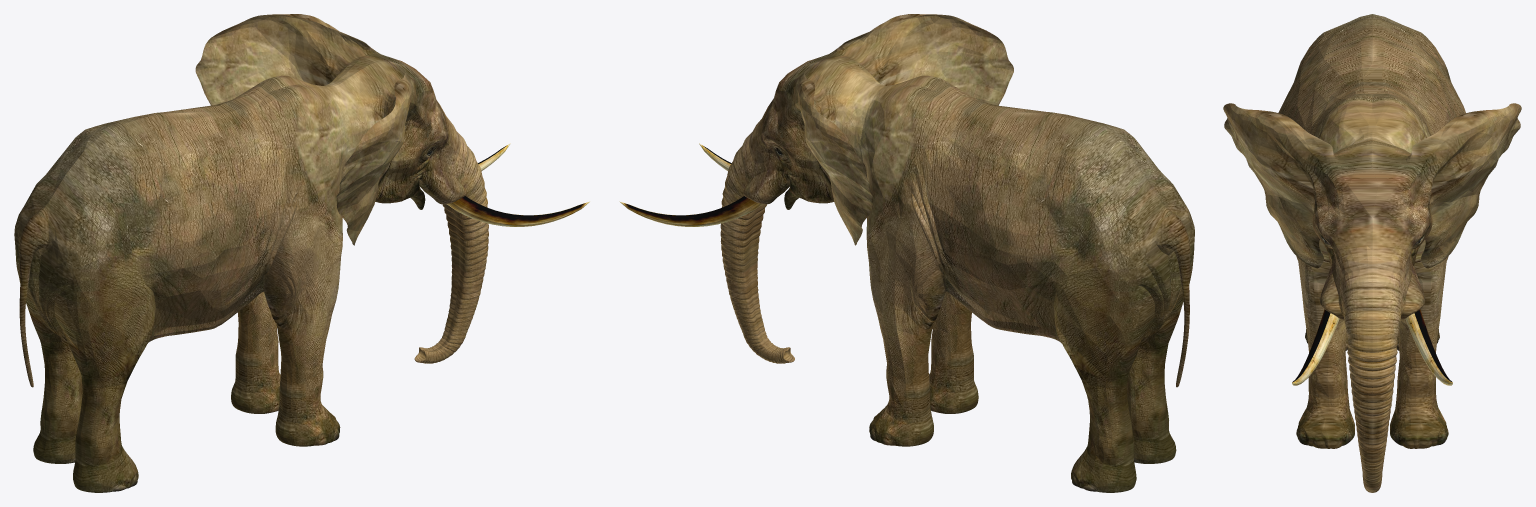
The model's file is elephant.glb.
3 renders of one model, left to right at view 1: azimuth 30°, elevation 25°; view 2: azimuth 150°, elevation 25°; view 3: azimuth 270°, elevation 25°, orthographic.
Visible parts, largest first — view 1: 79059; view 2: 79059; view 3: 79059.
Part boxes in pixels (<box>): 79059: <box>14,14,589,492</box>; 79059: <box>619,14,1194,492</box>; 79059: <box>1223,14,1521,492</box>.
Bounding box in the file's own units: 1132 × 717 × 546.
3 materials, 2 textured.
